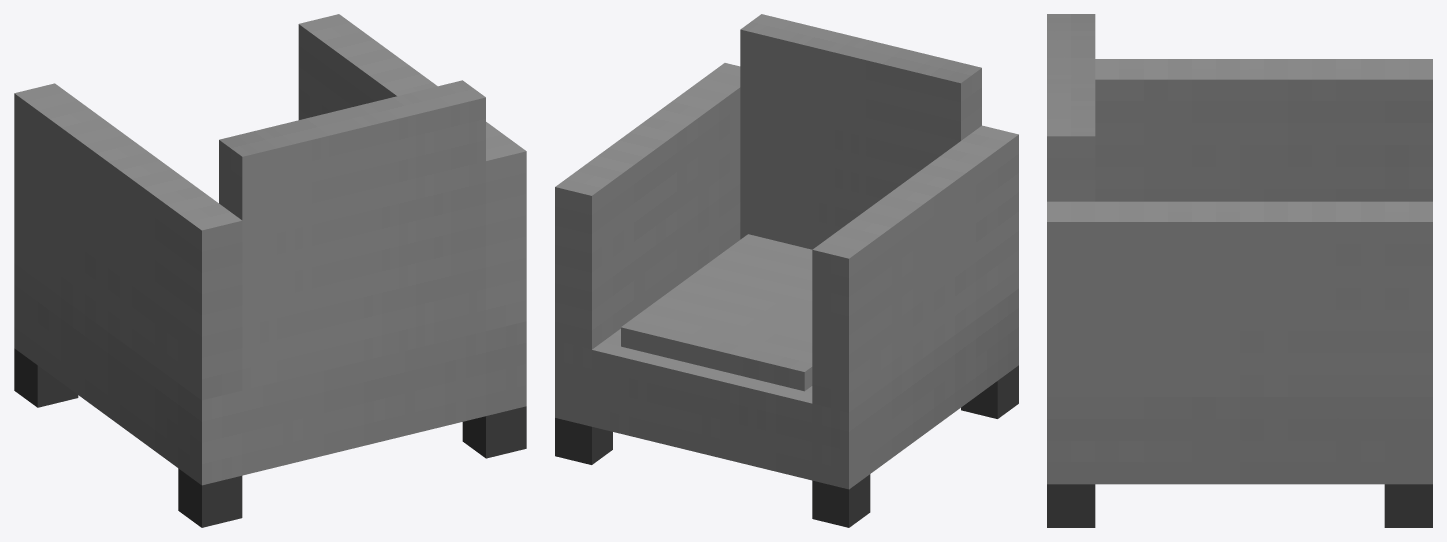
File: armchair.gltf
3 renders of one model, left to right at view 1: azimuth 30°, elevation 25°; view 2: azimuth 150°, elevation 25°; view 3: azimuth 270°, elevation 25°, orthographic. The views are drawn at different scales.
Visible parts, largest first — view 1: back, right, base, left, foot_4, foot_3, foot_1; view 2: back, base, right, left, cushion_1, foot_1, foot_2, foot_4; view 3: left, right, base, back, foot_2, foot_3.
Boxes of the visible parts, <box> form: back: <box>219,80,485,390</box>; right: <box>14,83,242,400</box>; base: <box>14,263,526,485</box>; left: <box>298,14,526,330</box>; foot_4: <box>178,468,242,527</box>; foot_3: <box>462,406,526,458</box>; foot_1: <box>14,348,78,407</box>; back: <box>740,14,981,249</box>; base: <box>555,288,1018,489</box>; right: <box>812,125,1018,412</box>; left: <box>555,63,740,349</box>; cushion_1: <box>621,234,812,391</box>; foot_1: <box>812,474,870,527</box>; foot_2: <box>555,418,612,464</box>; foot_4: <box>961,365,1018,418</box>; left: <box>1047,201,1432,396</box>; right: <box>1095,59,1432,201</box>; base: <box>1047,397,1432,484</box>; back: <box>1047,14,1095,201</box>; foot_2: <box>1384,484,1432,527</box>; foot_3: <box>1047,484,1095,527</box>.
Bounding box in the file's own units: 1 × 1.06 × 1.
Materials: 2 (2 with a texture image).
